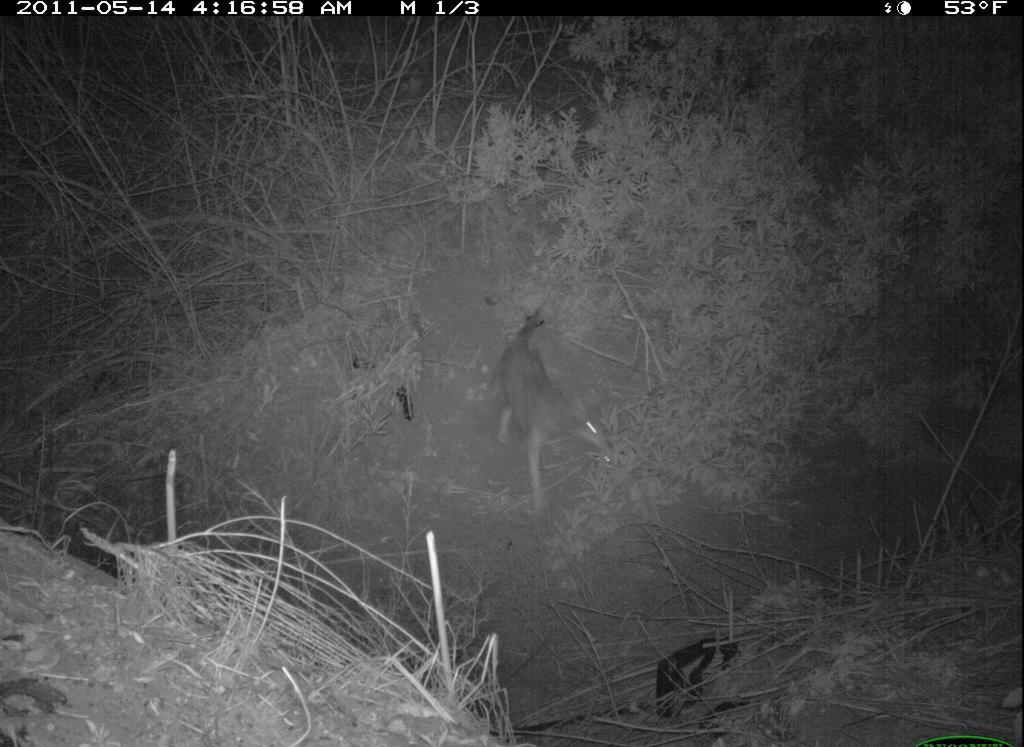coyote: (488, 300, 648, 527)
